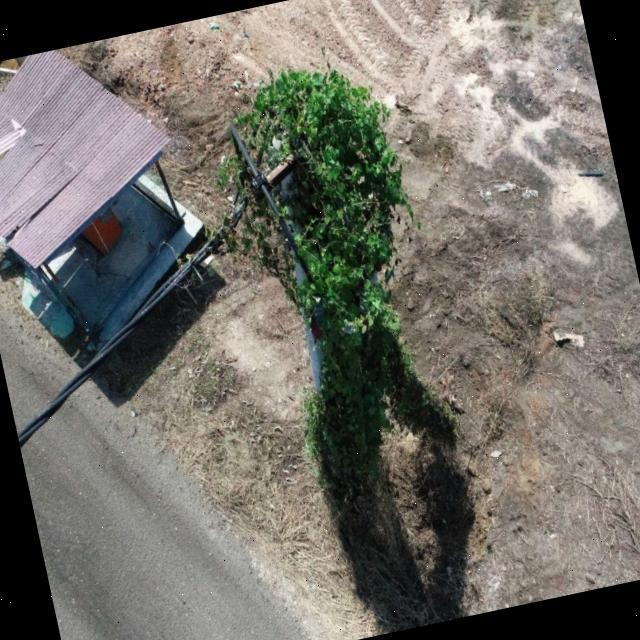critical vegetation: (182, 34, 480, 518)
